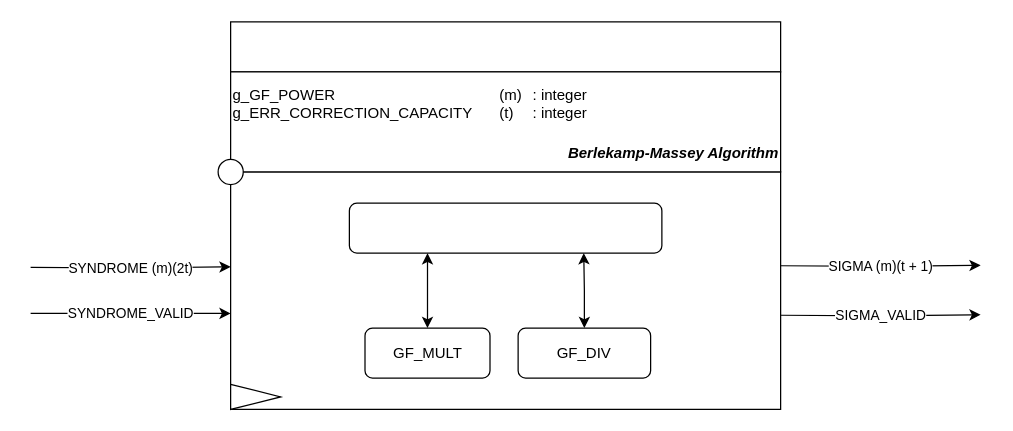
The diagram is 1013 pixels wide and 431 high, and some of its shapes have lost their labels. Here are the shapes that lost their labels. From the top down, the centre of each, then its label:
At point (505, 46): "BM_Solver".
At point (505, 227): "FSM".
